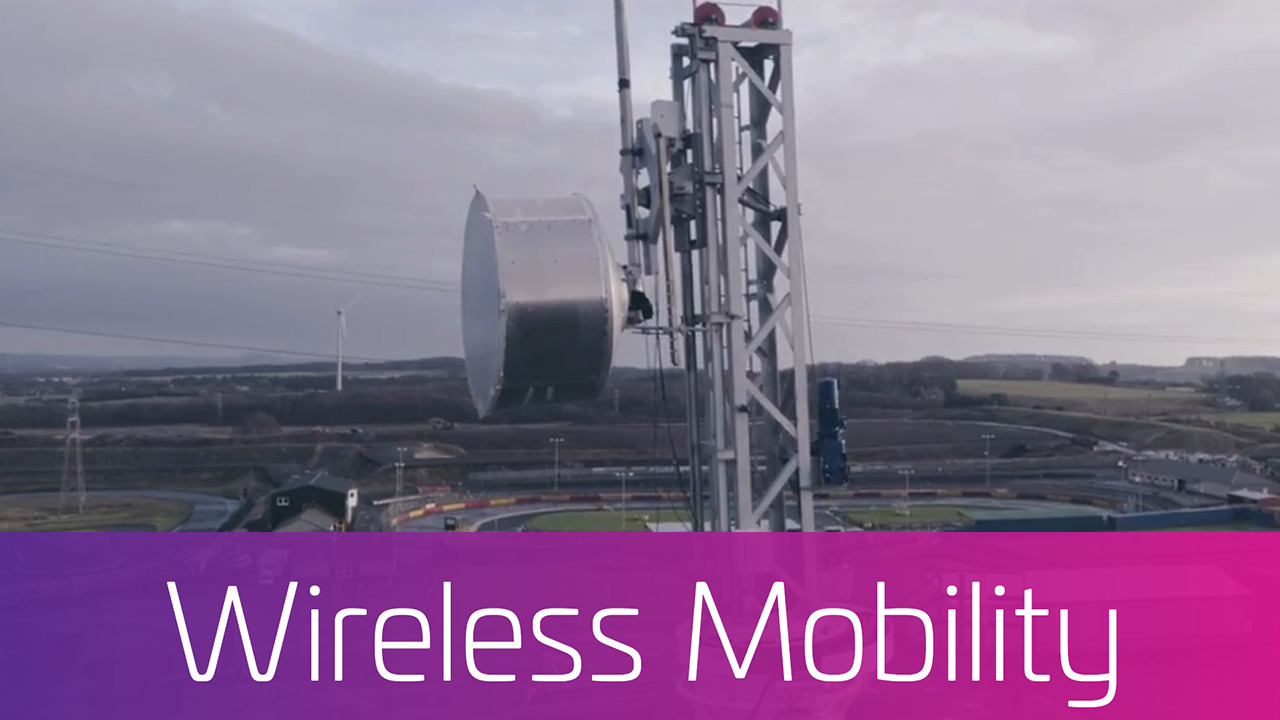ba: (436, 167, 647, 442)
